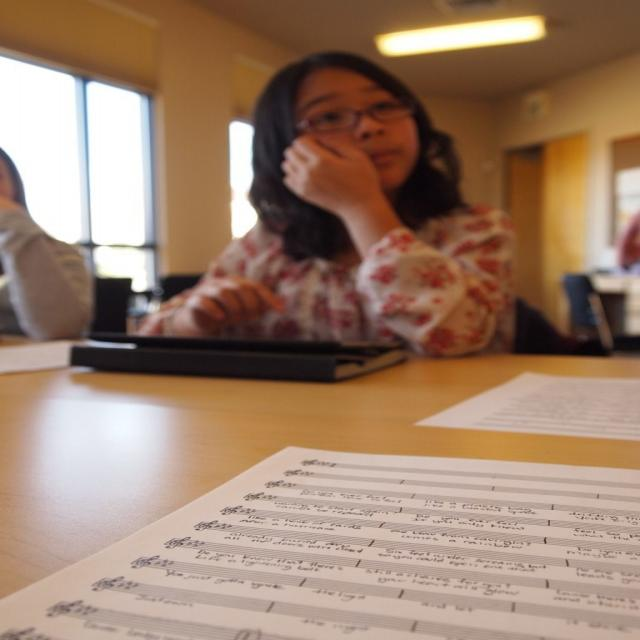desk: (0, 330, 639, 640)
person: (136, 52, 526, 357), (0, 147, 93, 341)
